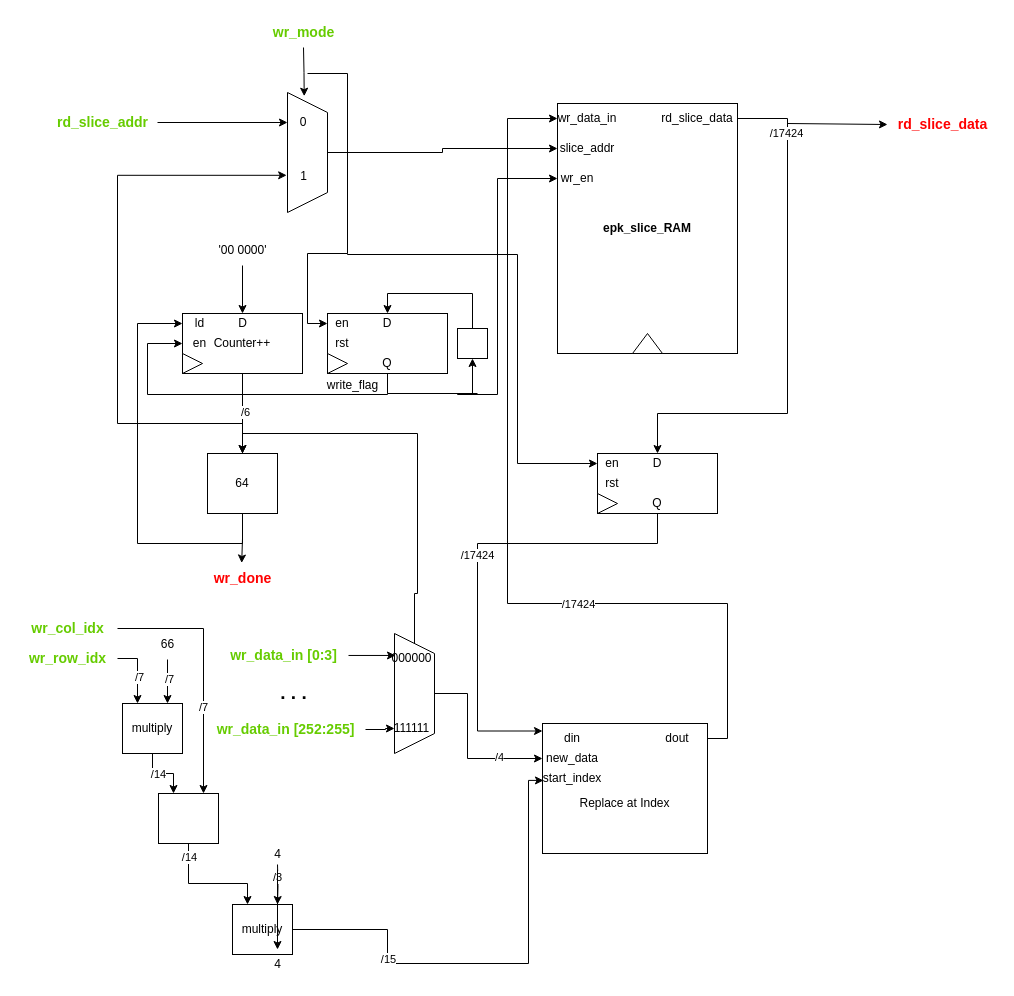
The diagram is 1014 pixels wide and 996 high, and some of its shapes have lost their labels. The shapes that lost their labels are listed below. From the top down, each one's centre as x and y in pixels, then its label:
[472,343]: NOT
[188,818]: Add
